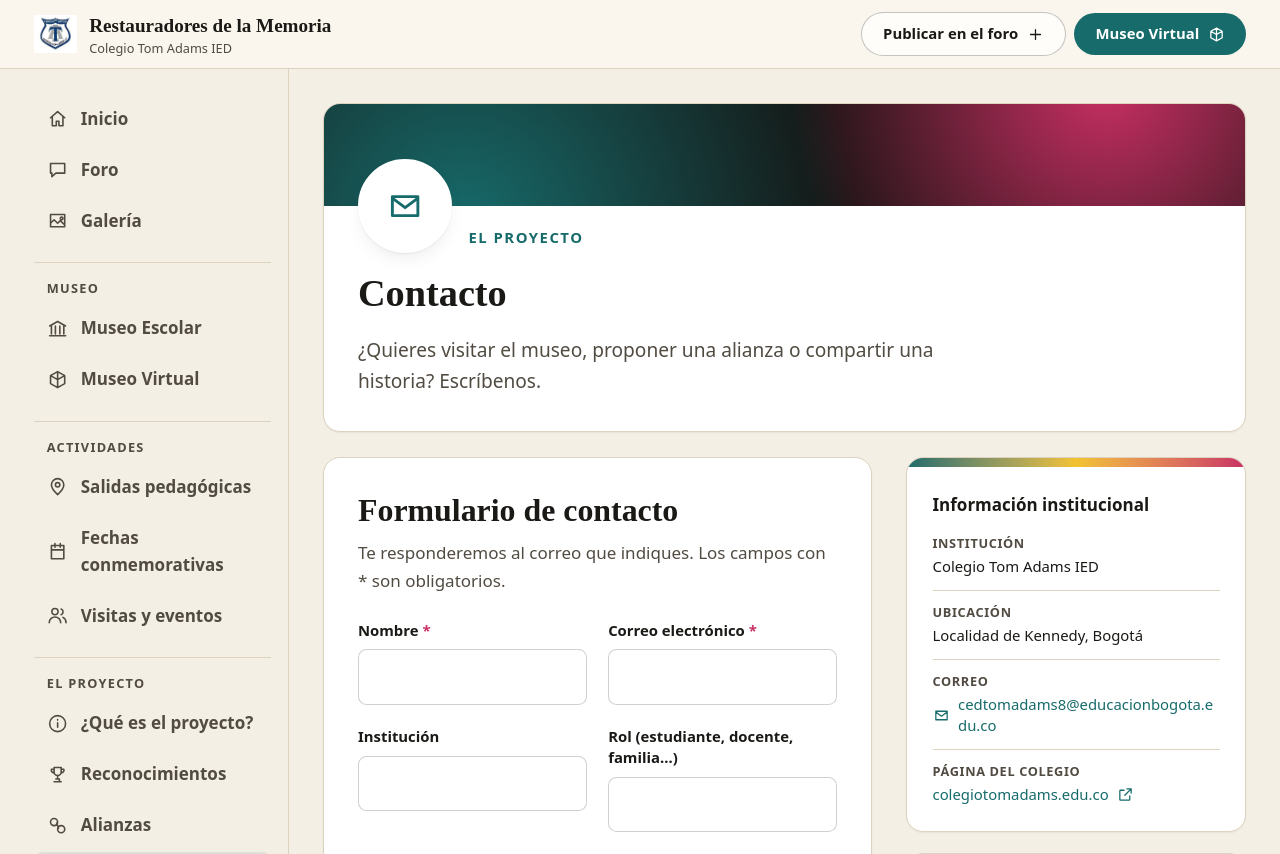
Test case: Contacto › muestra el mensaje de la API si rechaza el envío
The width and height of the screenshot is (1280, 854).
Type "Ana Pérez" into the field labelled "Nombre *". click: (472, 677)
box: 358,650 -> 587,705
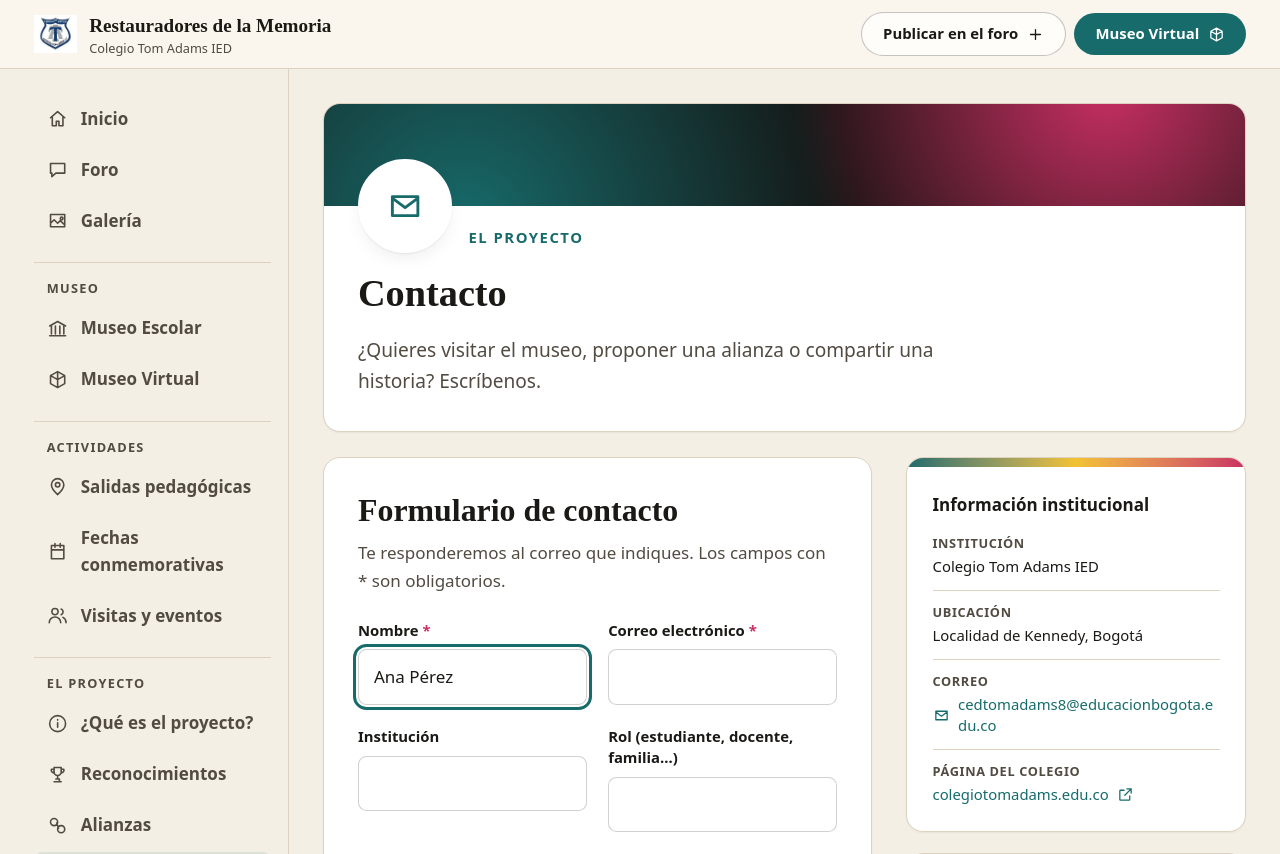
Type "ana@example.com" into the field labelled "Correo electrónico *". click: (723, 677)
box: 608,650 -> 837,705
(page scrolled)
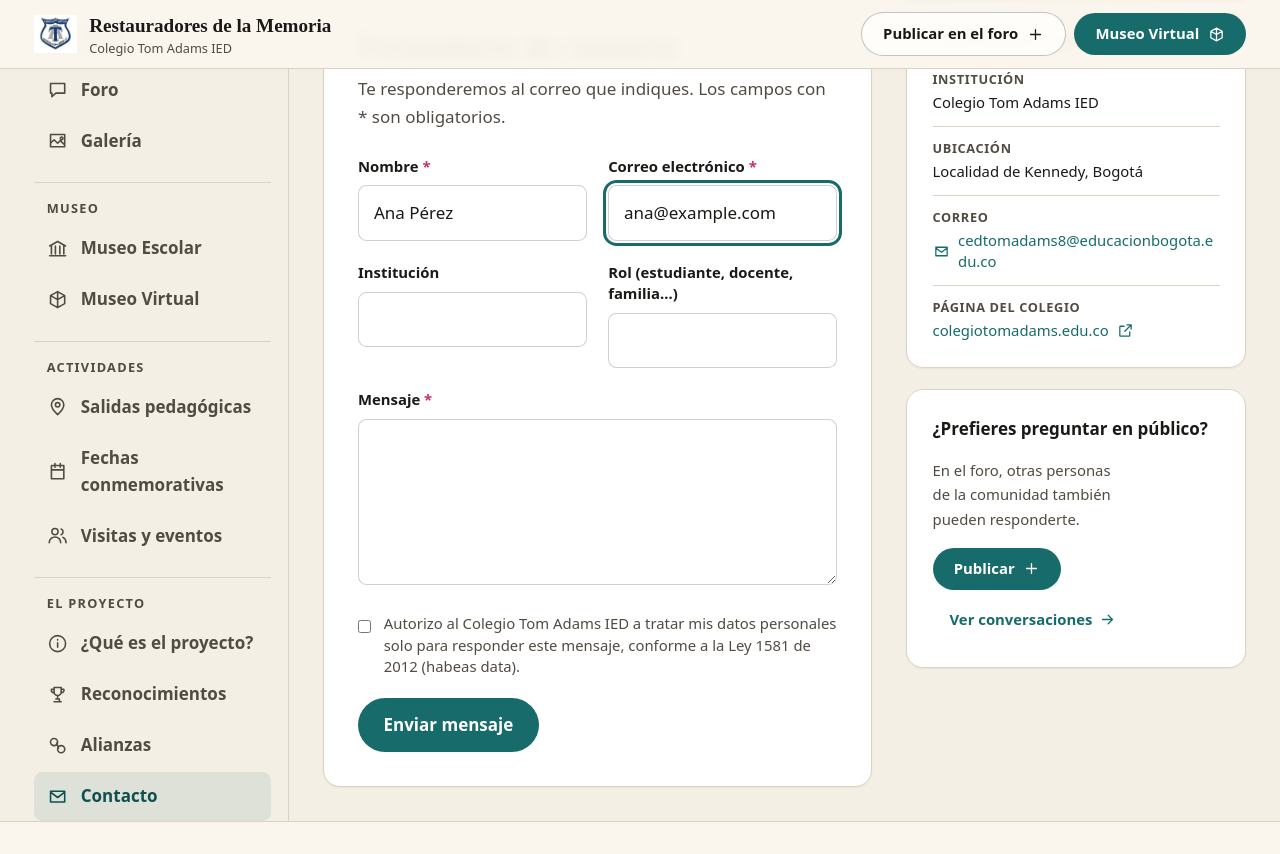
Type "Queremos visitar el museo." into the text box labelled "Mensaje *". click: (598, 502)
box: 358,419 -> 837,585
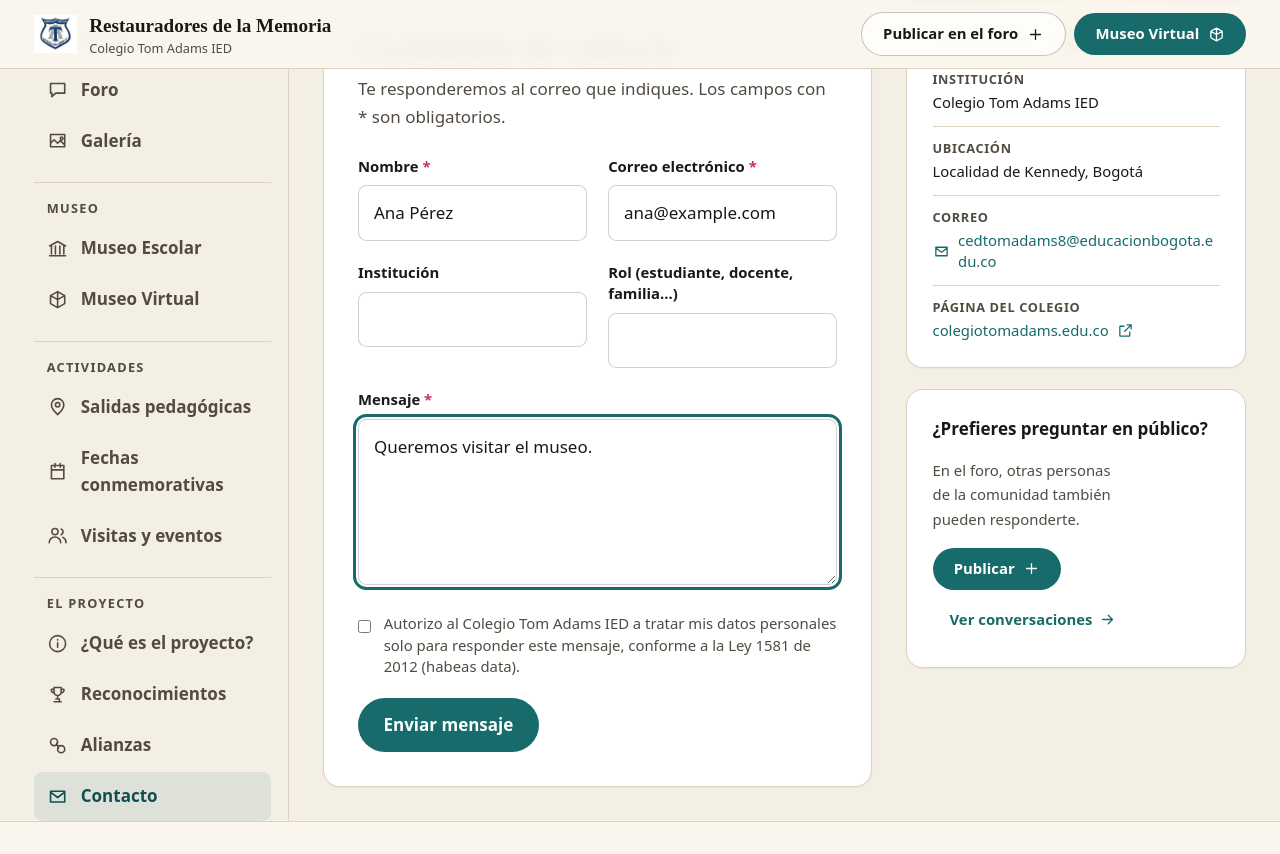
Click the checkbox. click: (364, 626)
box: 358,618 -> 371,635
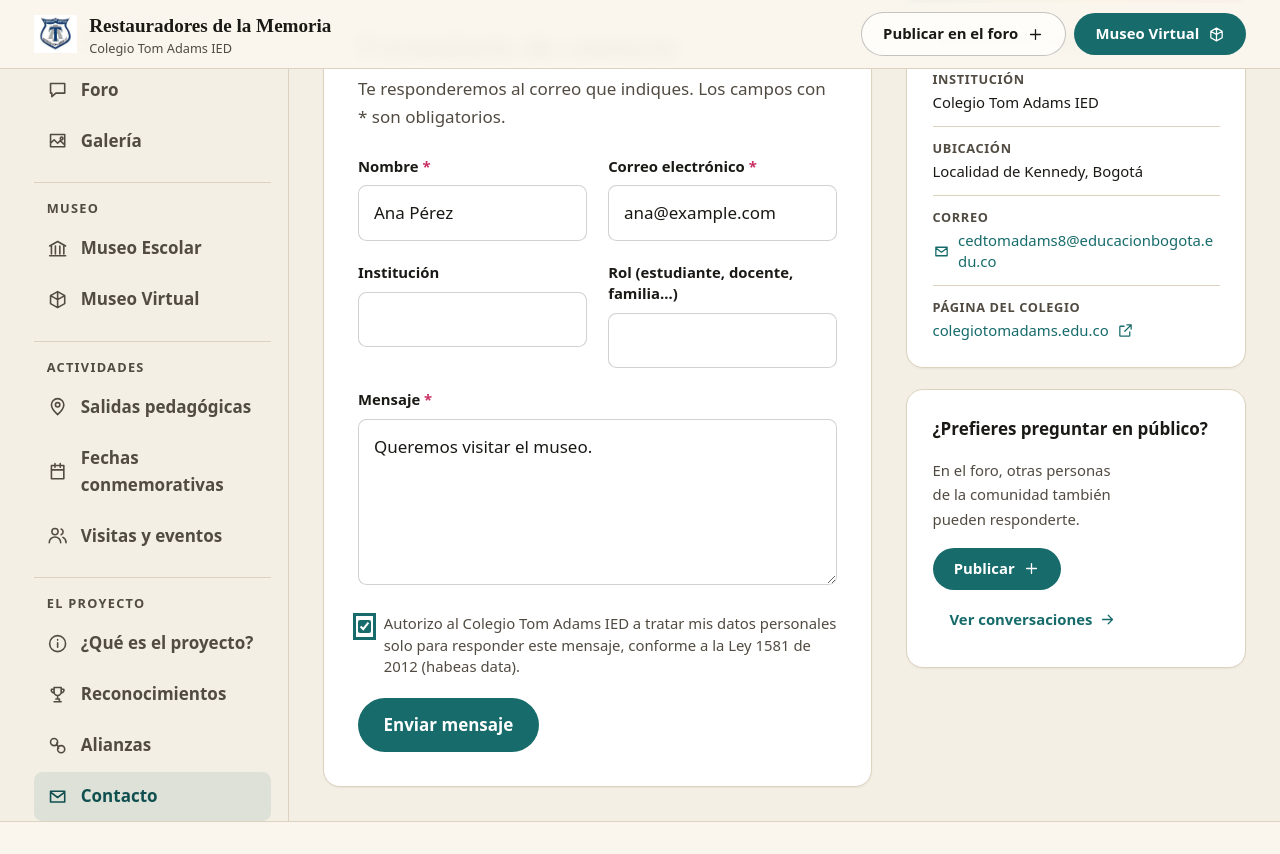
Click the button "Enviar mensaje". click: (448, 725)
box: 358,698 -> 539,752
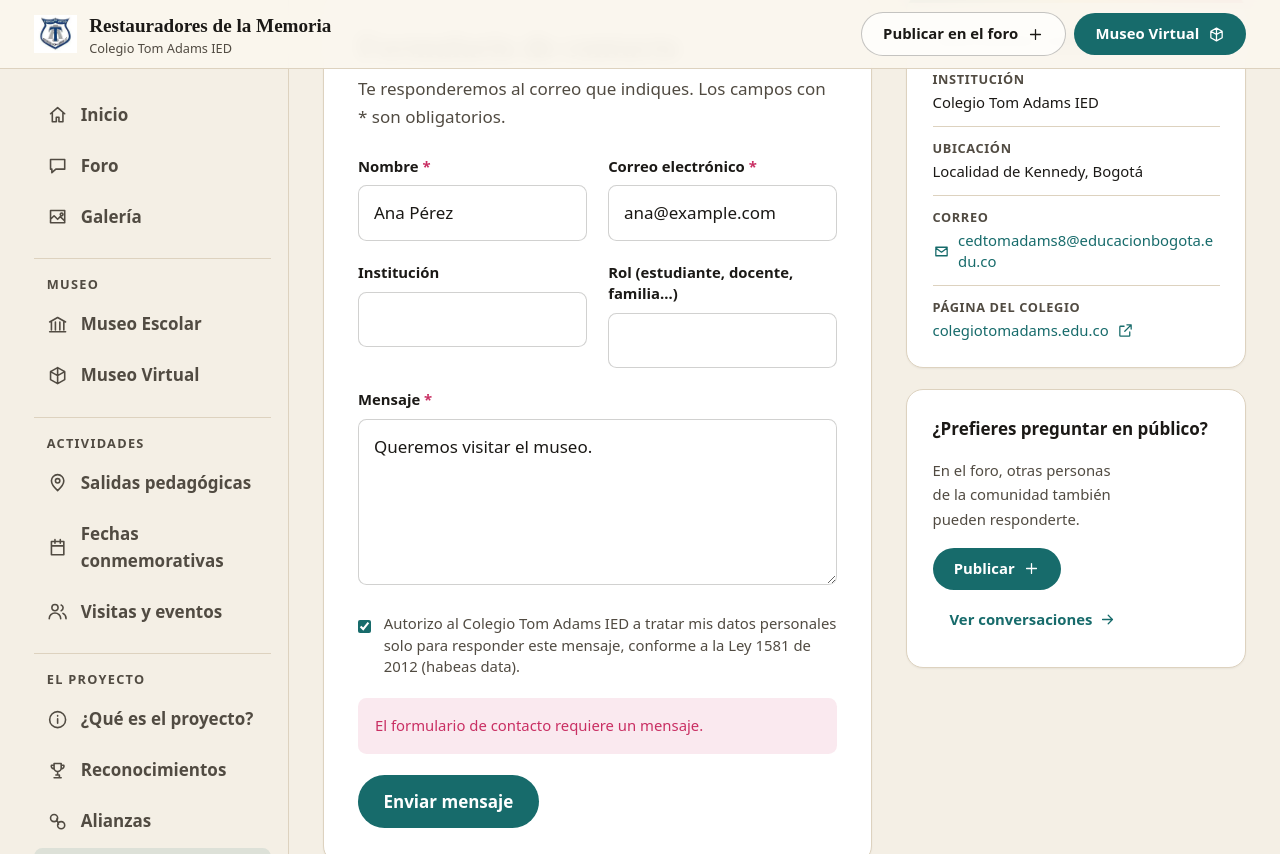
Expected: the message shows "requiere un mensaje", 375,716 -> 703,736
